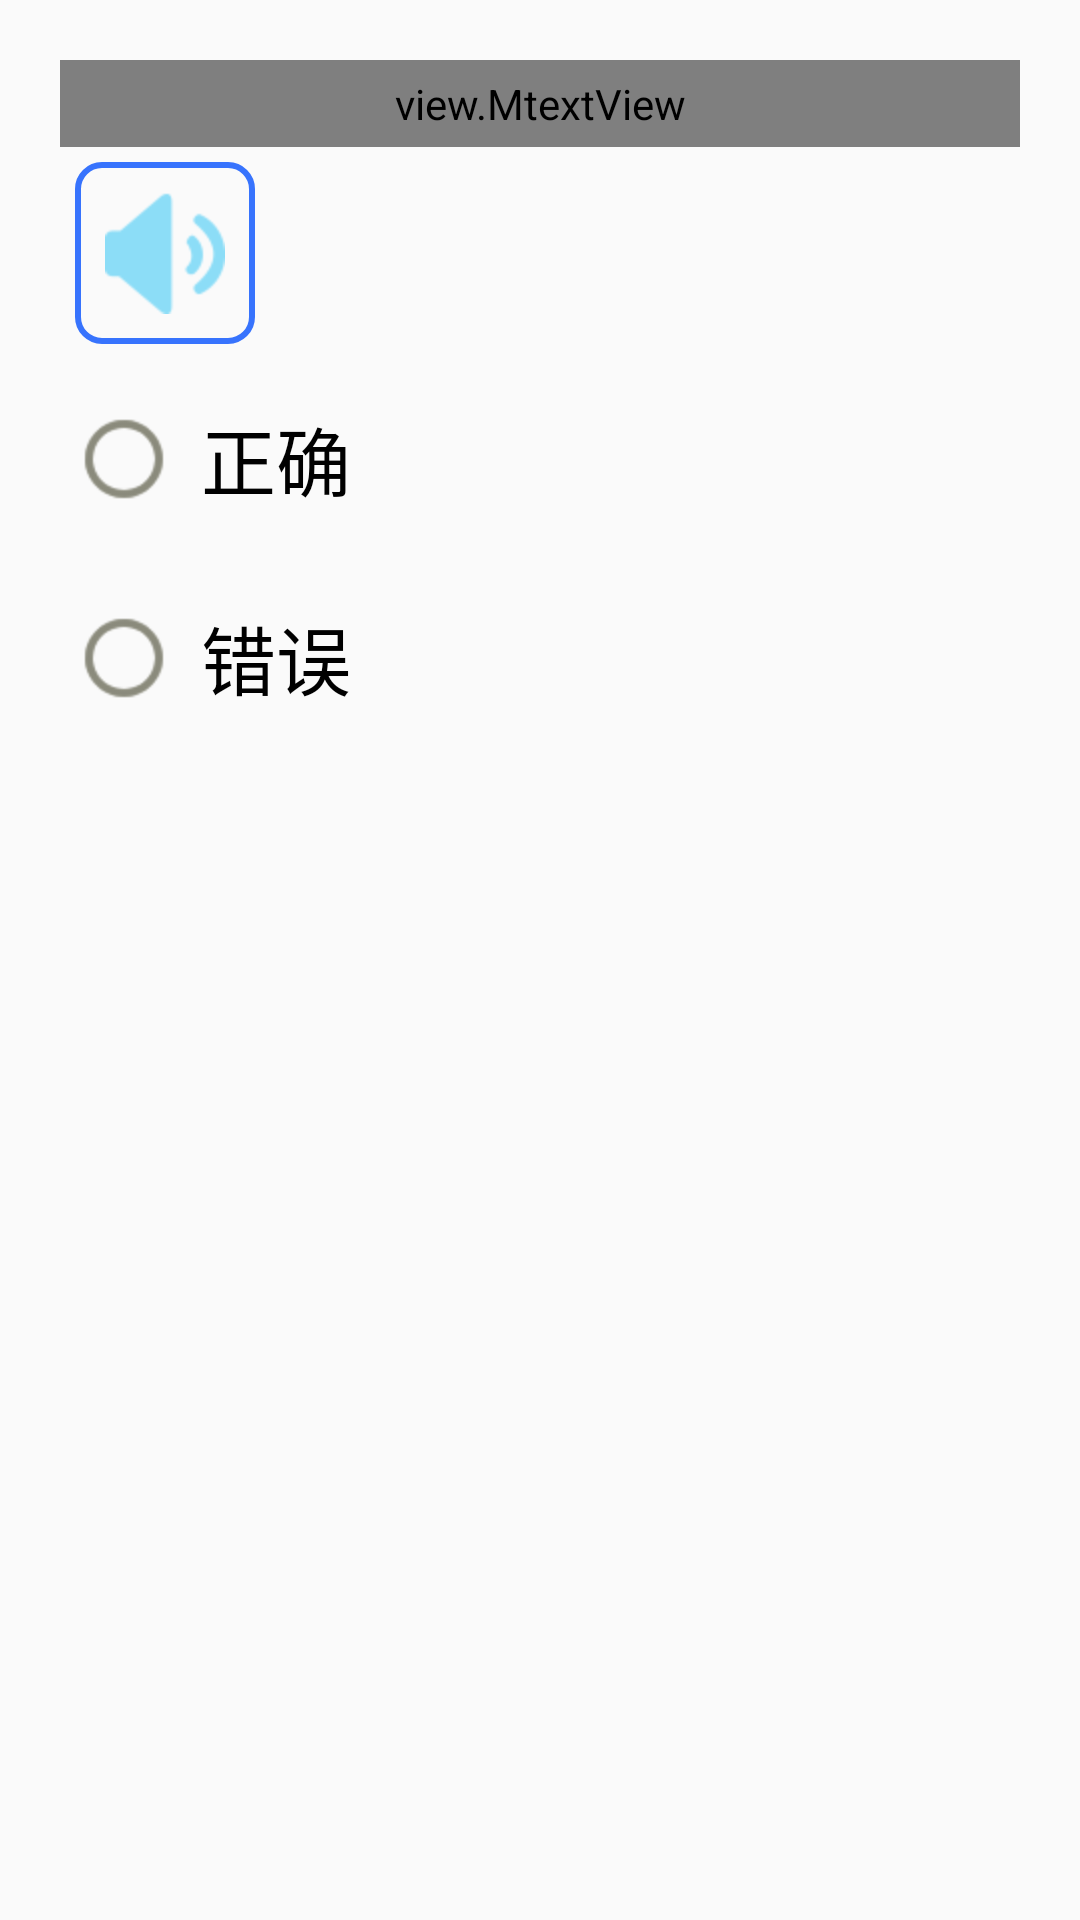

Named icons in this screenshot (1080px x 1920px) and their centers, (x=x, y=y):
play music: (x=165, y=253)
radio: (x=124, y=459), (x=124, y=658)
